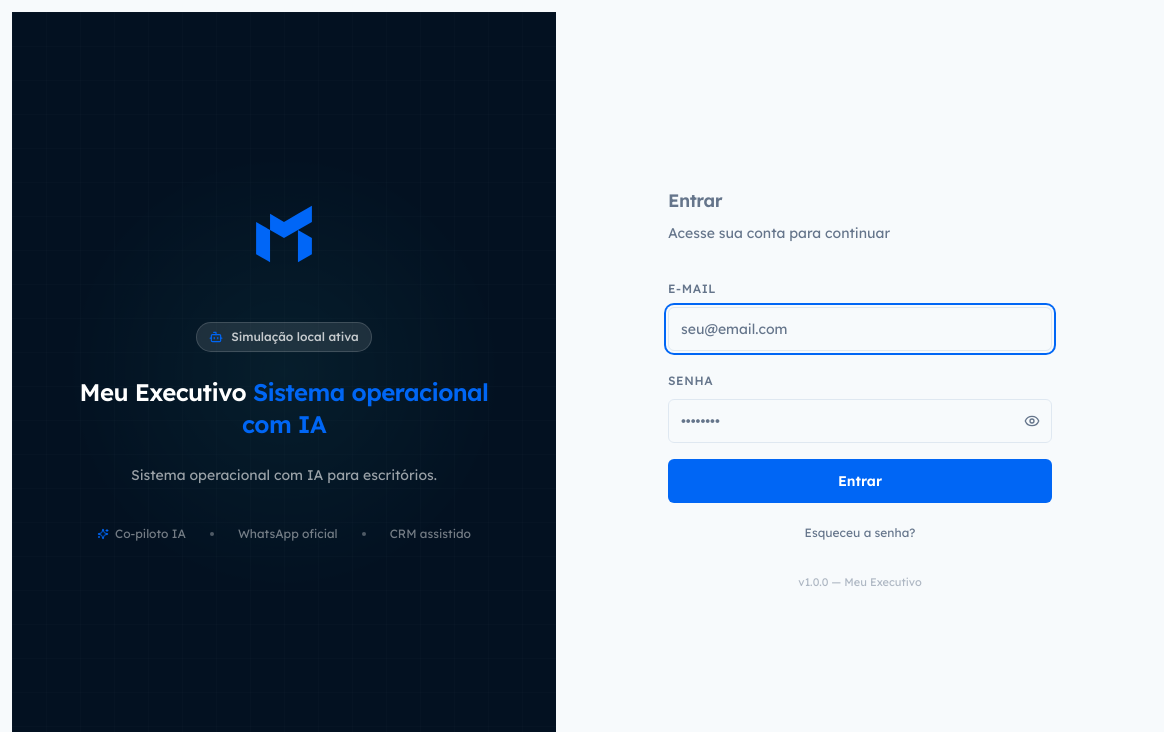
Scenario: Login com MFA › does not persist a session until the second factor succeeds
Type "admin@klm.test" into the field with placeholder "seu@email.com". click: (860,329)
box: [668, 307, 1052, 351]
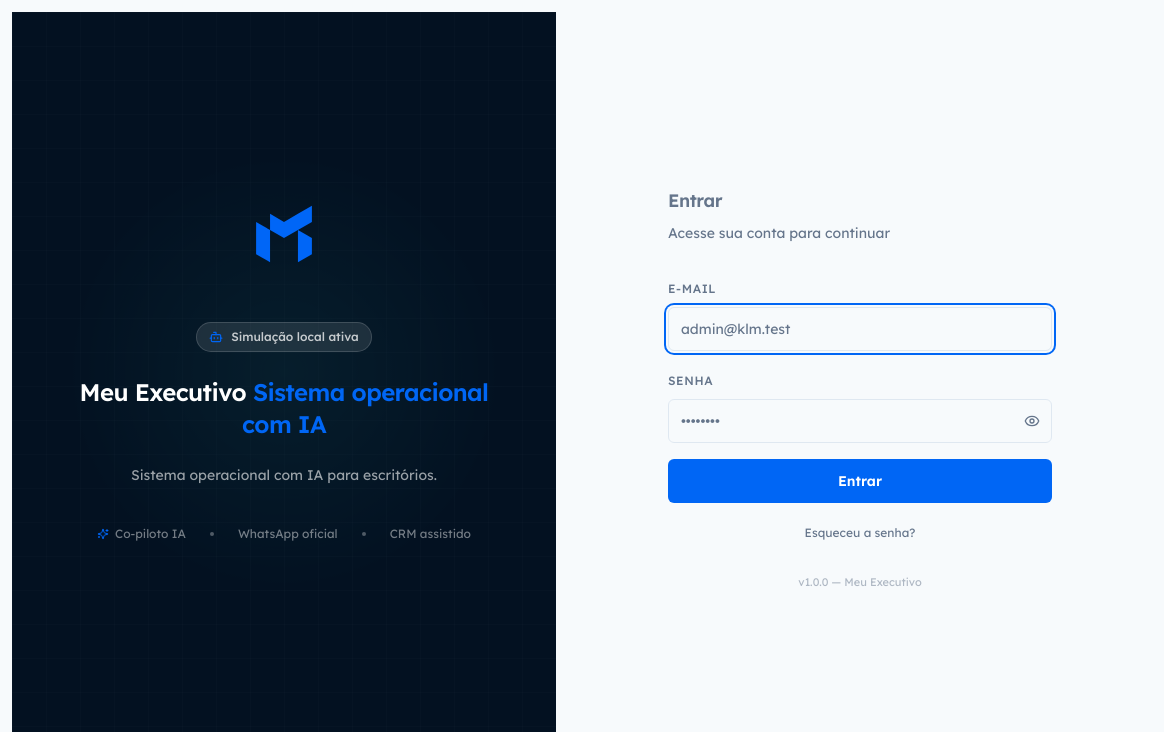
Type "senha-segura" into the password field with placeholder "••••••••". click: (860,421)
box: [668, 399, 1052, 443]
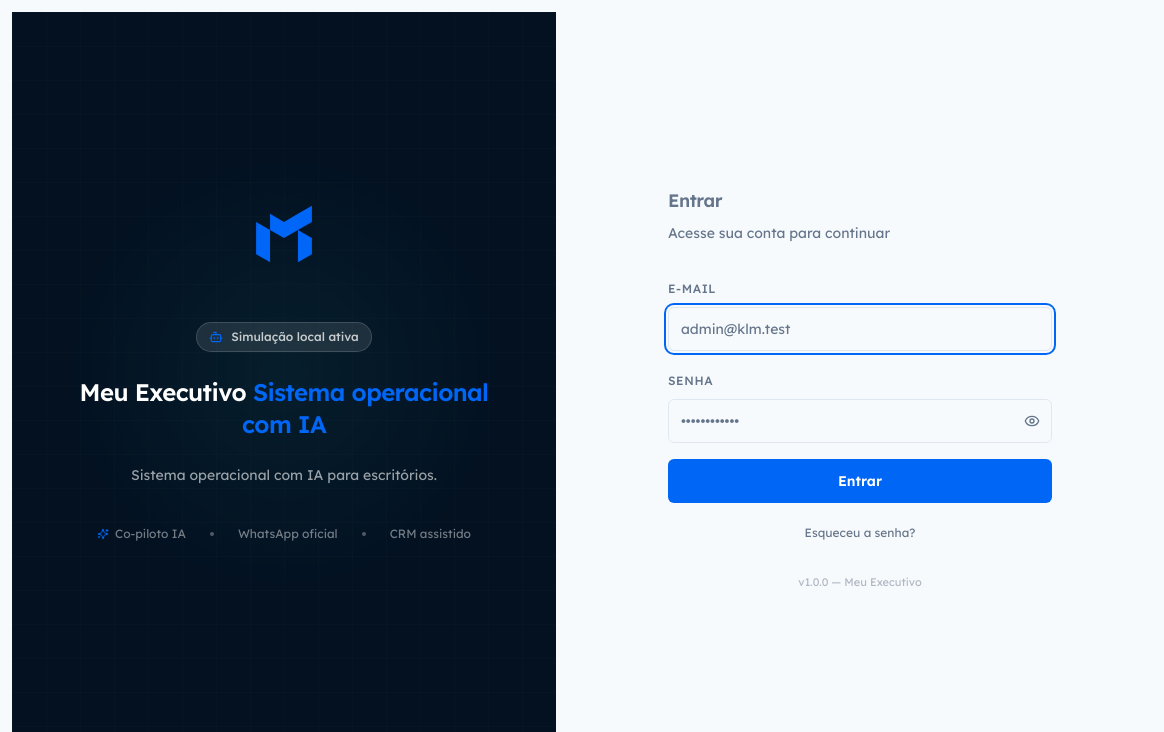
Click the button "Entrar". click: (860,481)
box: [668, 459, 1052, 503]
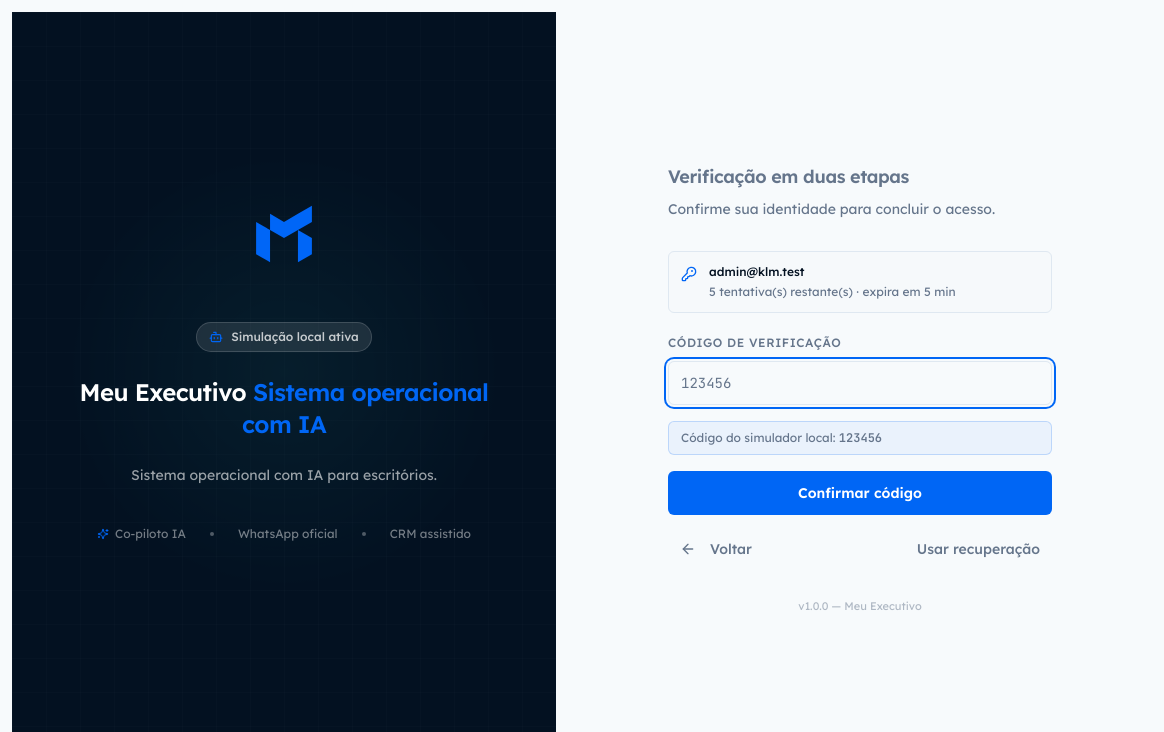
Expected: the heading "Verificação em duas etapas" is shown, [668, 165, 909, 188]
Click the button "Confirmar código". click: (860,493)
box: [668, 471, 1052, 515]
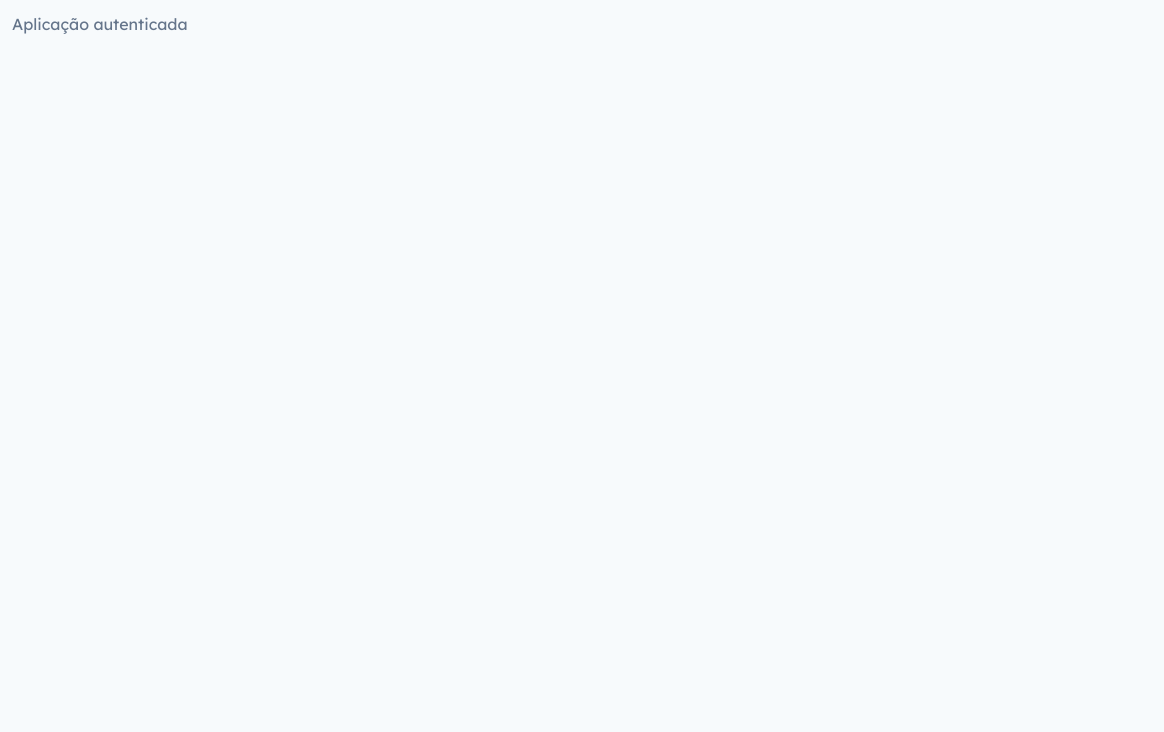
Expected: the text "Aplicação autenticada" is shown, [12, 14, 188, 34]
